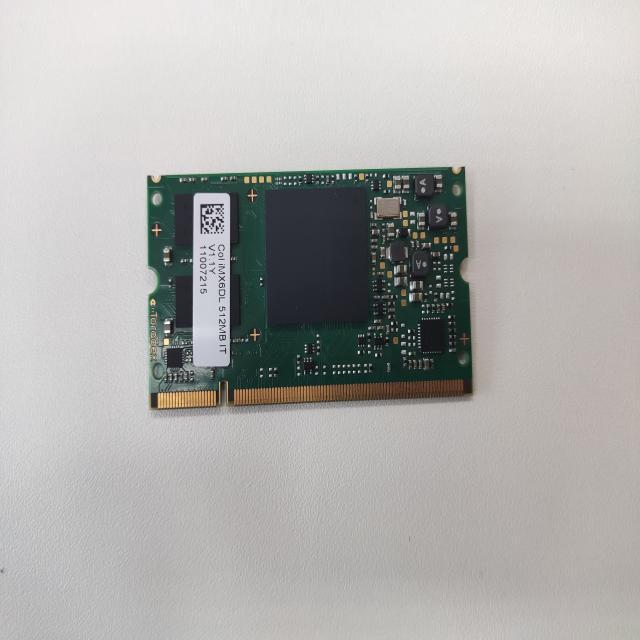som: (137, 162, 483, 406)
